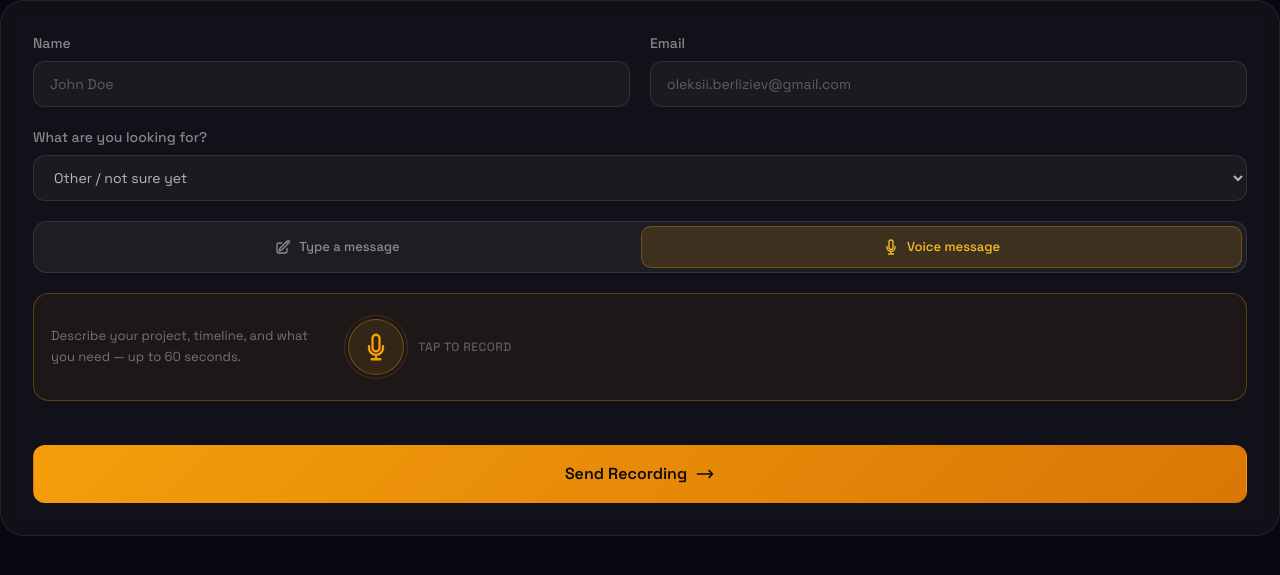
Test: ContactForm › case 7: fix field + blur again → error disappears
Click the field labelled "Name": (332, 84) top-left (33, 61), bottom-right (630, 107)
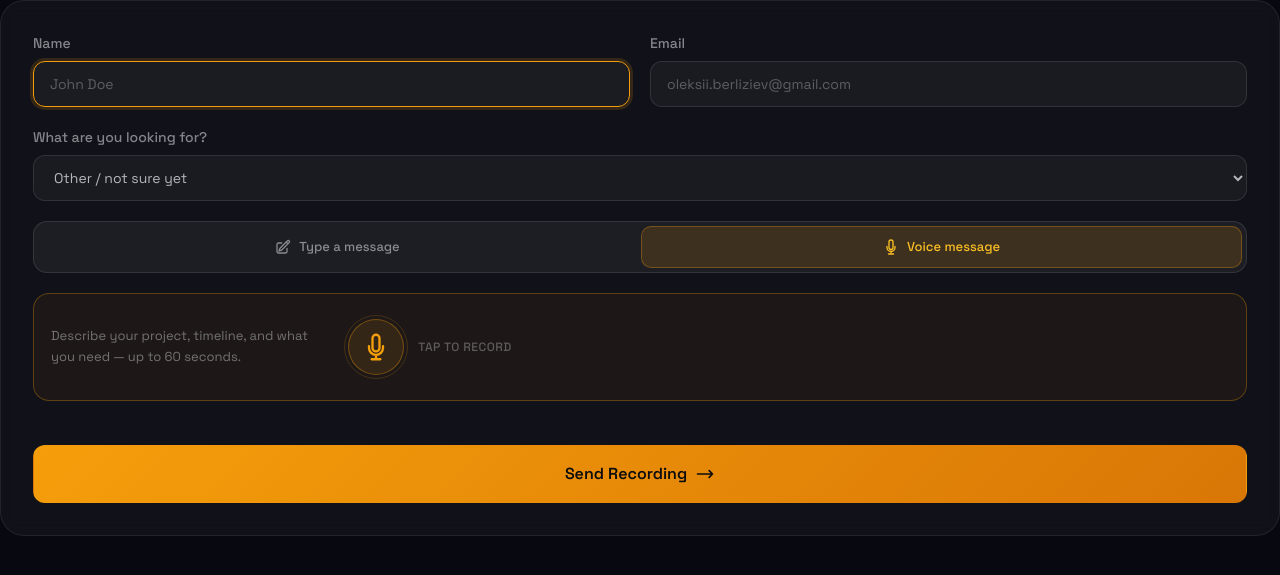
Press Tab
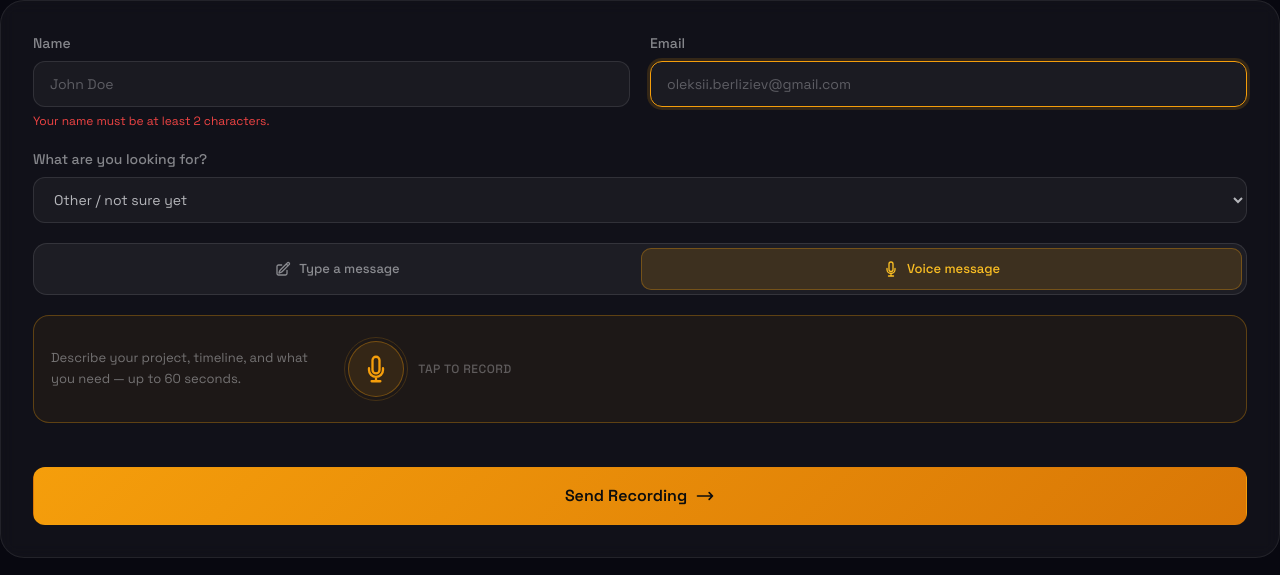
Result: the text "Your name must be at least 2 characters." is shown at top-left (33, 113), bottom-right (269, 129)
In the field labelled "Name": (332, 84) top-left (33, 61), bottom-right (630, 107), type "Alice"
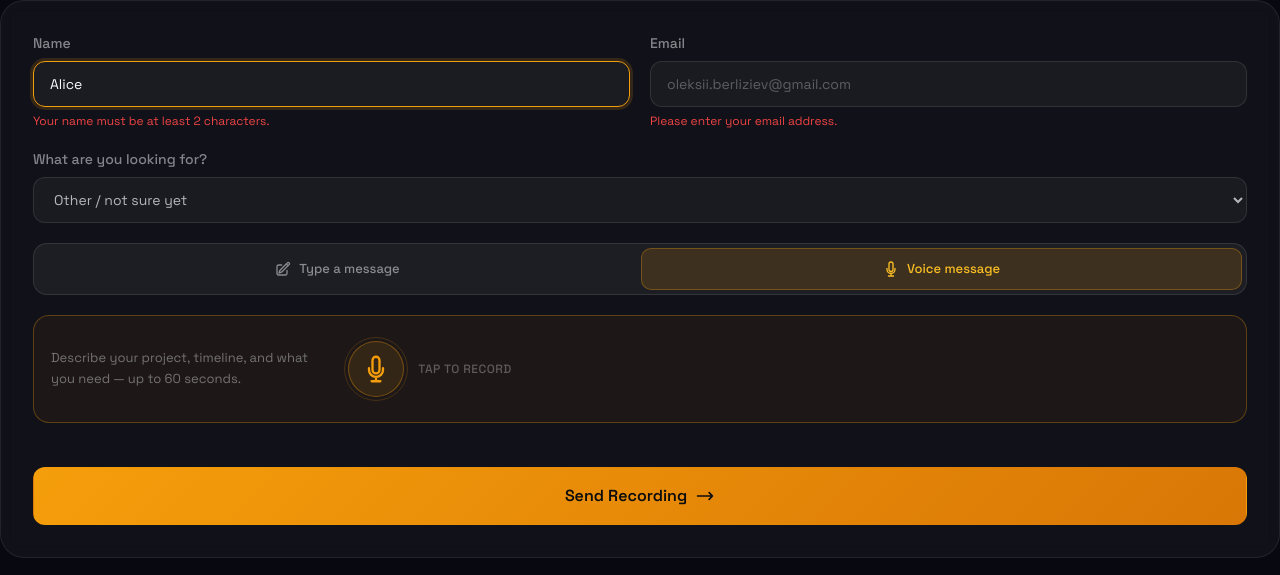
Press Tab
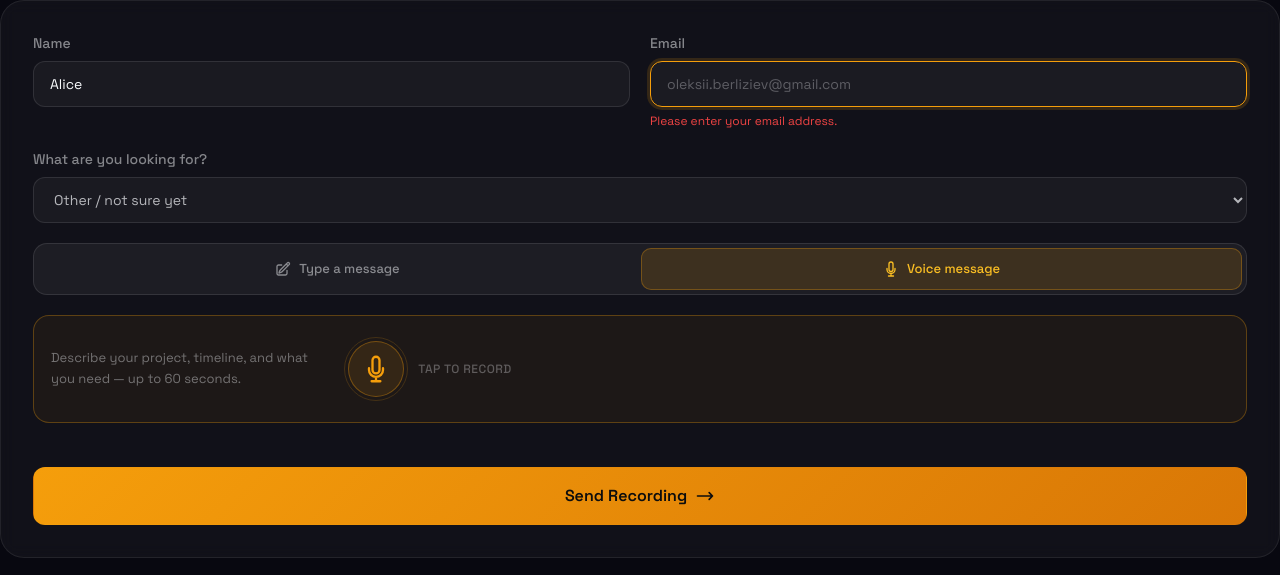
Result: the text "Your name must be at least 2 characters." is gone
